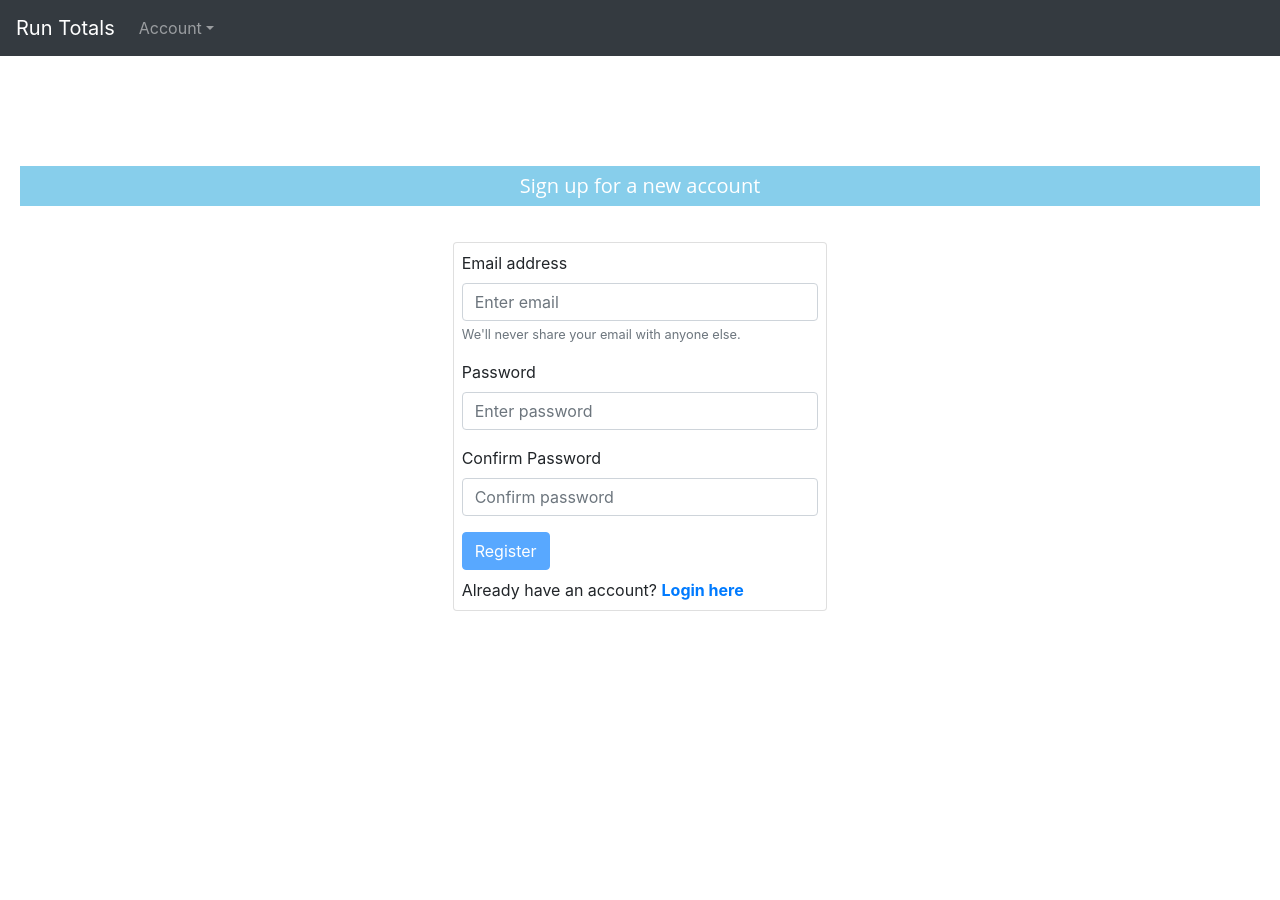
Register page tests › Server side validation › should show password confirmation message
In the field with test id "email-input": (640, 302) [462,283,818,321], type "valid@email.com"
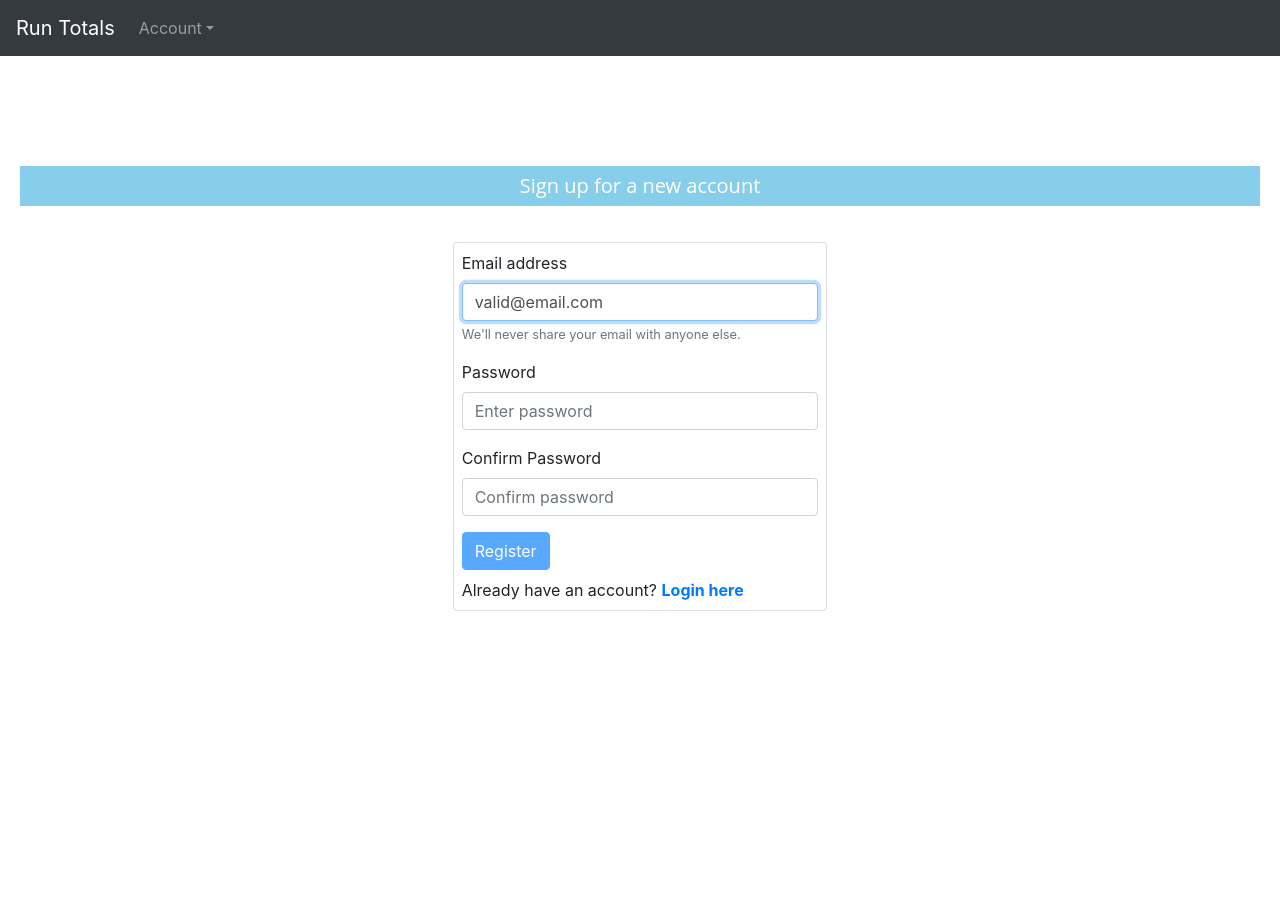
In the password field with test id "password-input": (640, 411) [462,392,818,430], type "validPassw0rd"
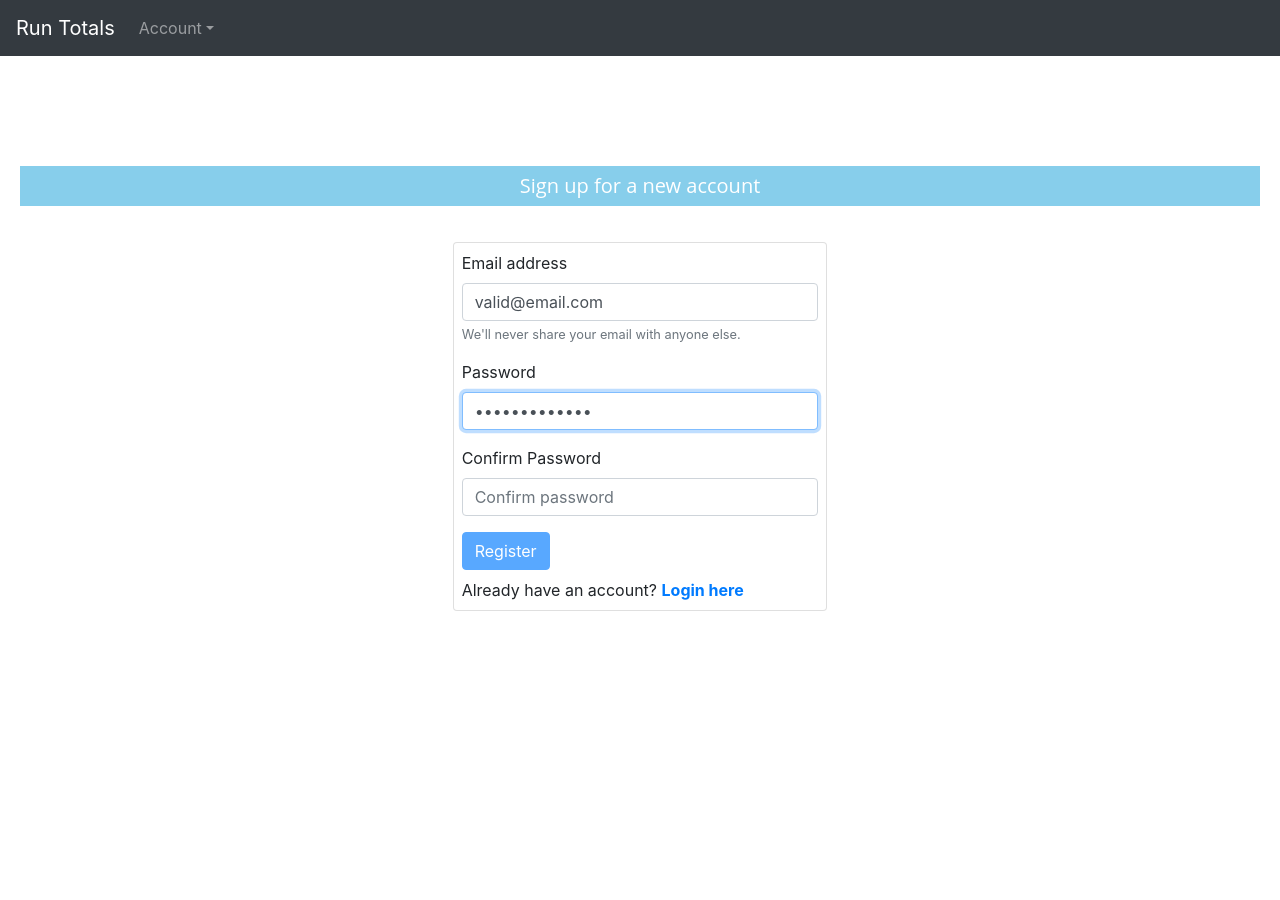
In the password field with test id "confirmPassword-input": (640, 497) [462,478,818,516], type "bob"
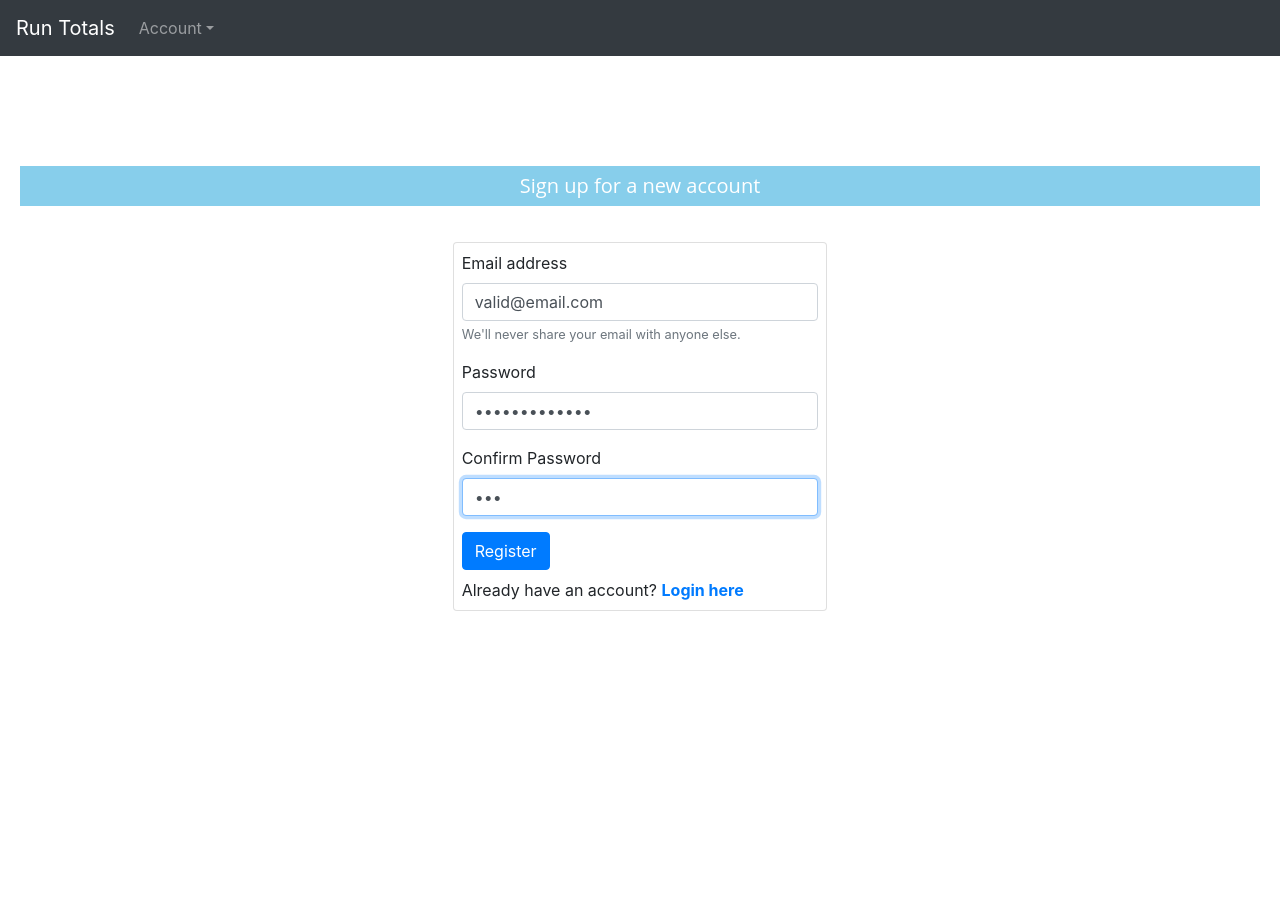
Click the button "Register": (506, 551) [462,532,550,570]
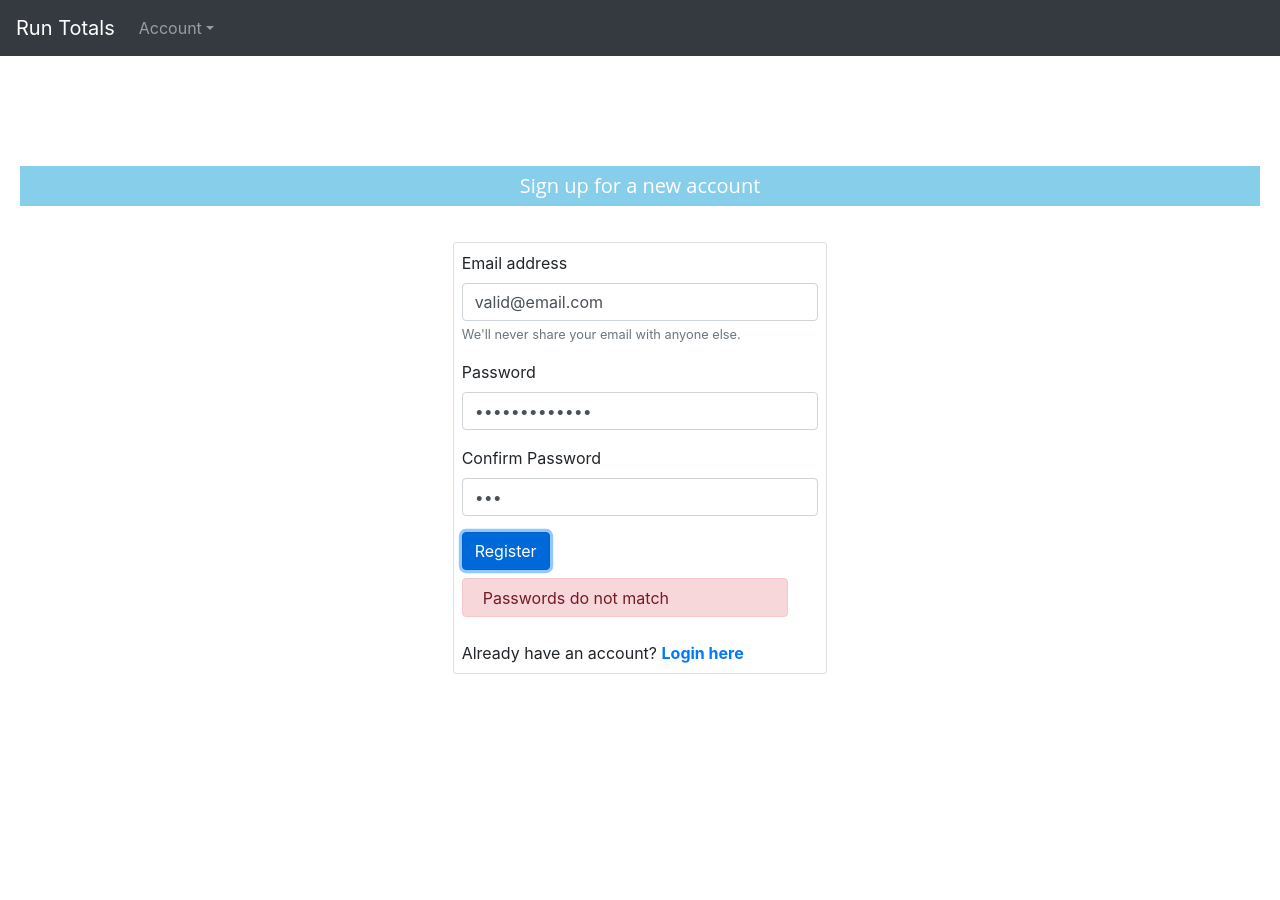
expect the message "Passwords do not match" is shown: met, box [462,578,788,617]
expect the message reads "Passwords do not match": met, box [483,588,669,608]
